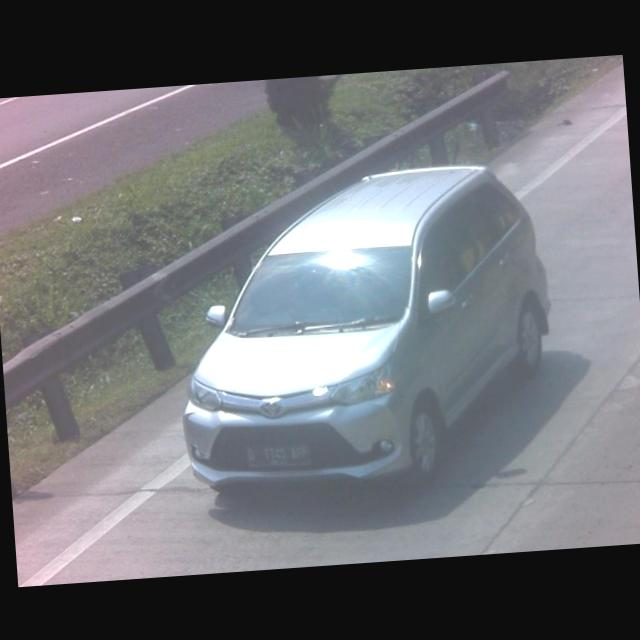plate: (242, 438, 310, 468)
